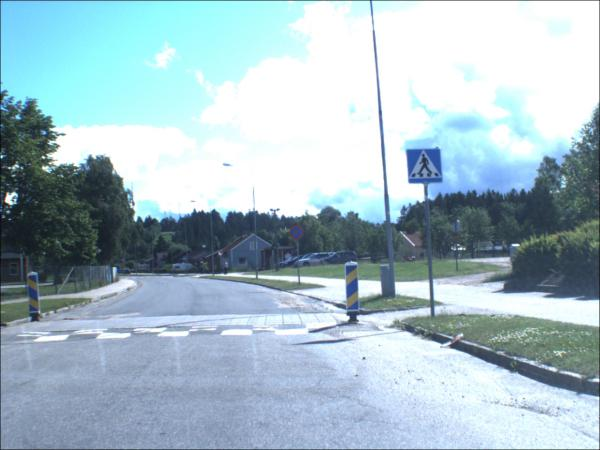NO_STOPPING_NO_STANDING: (290, 225, 307, 243)
PEDESTRIAN_CROSSING: (407, 148, 446, 186)
